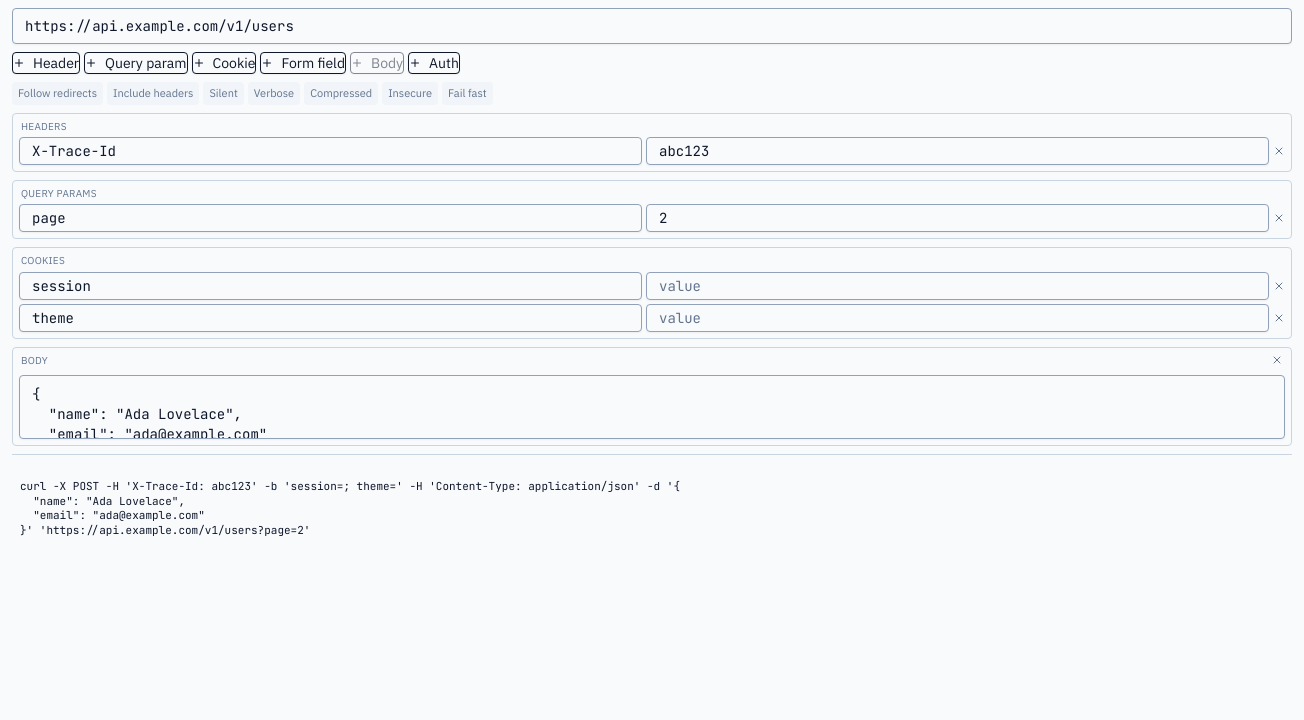
Test: CurlBuilderWidget › marks a form field as a file upload
Click the button "Form field" at (303, 63), box [260,52,346,74]
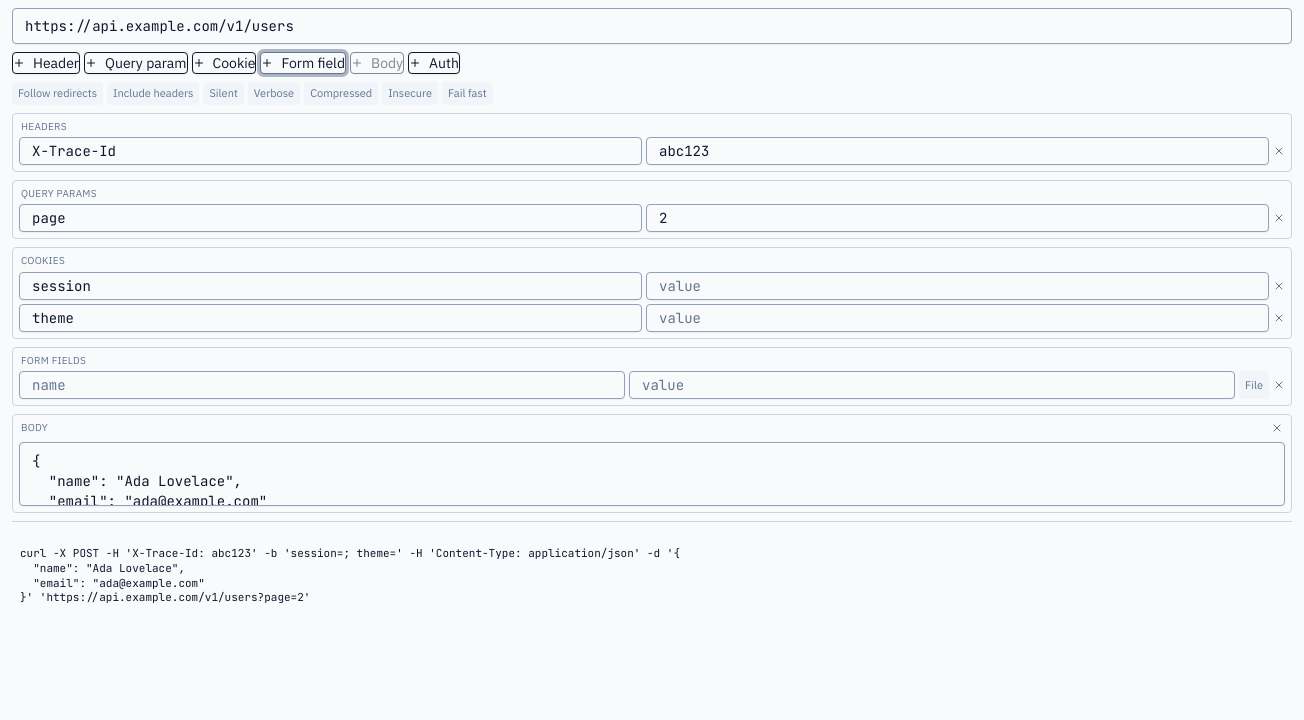
Type "avatar" into the field named "Form field 1 name" at (322, 385), box [19,371,625,399]
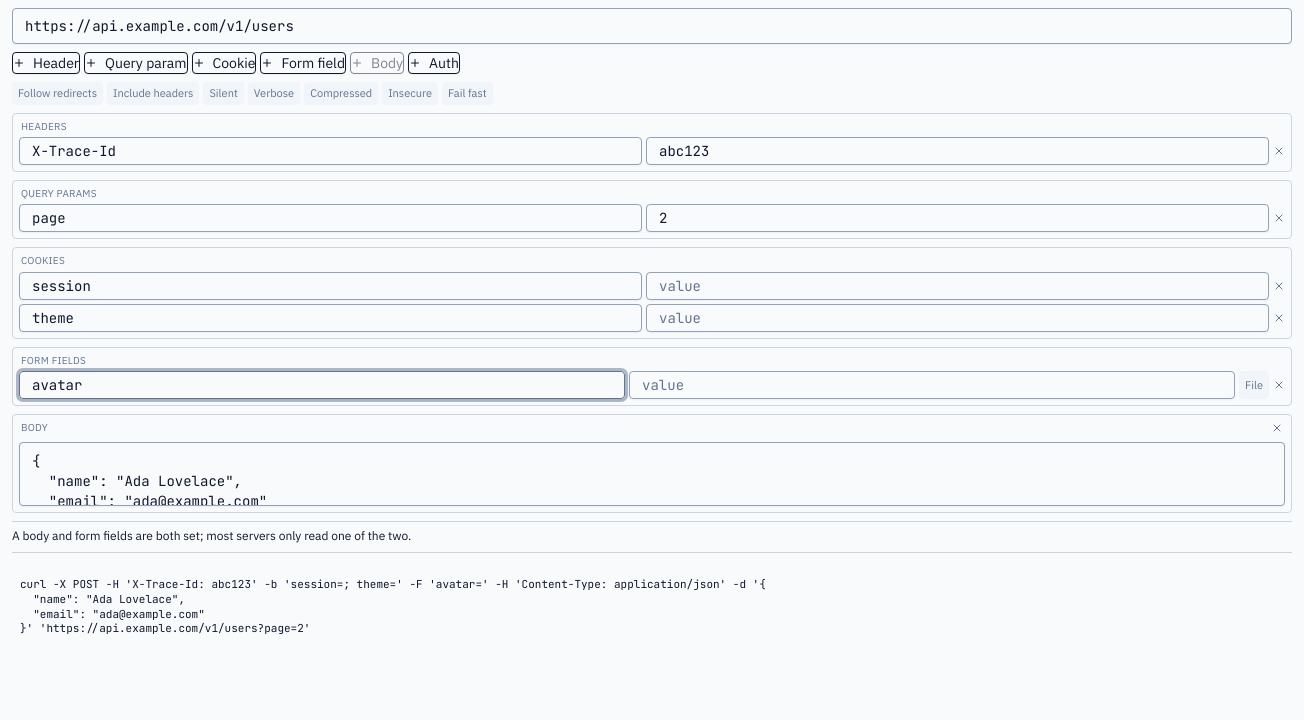
Type "me.png" into the field named "Form field 1 value" at (932, 385), box [629,371,1235,399]
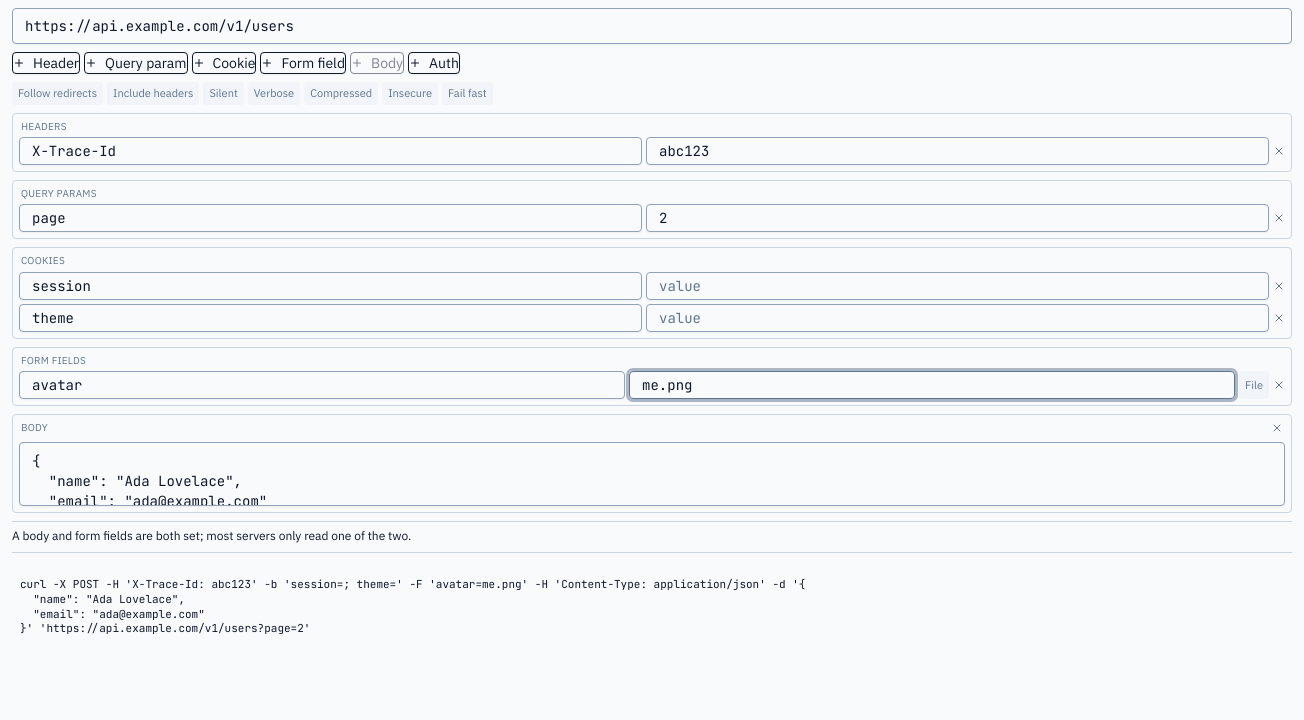
Click the button "File" at (1254, 385), box [1239,371,1269,399]
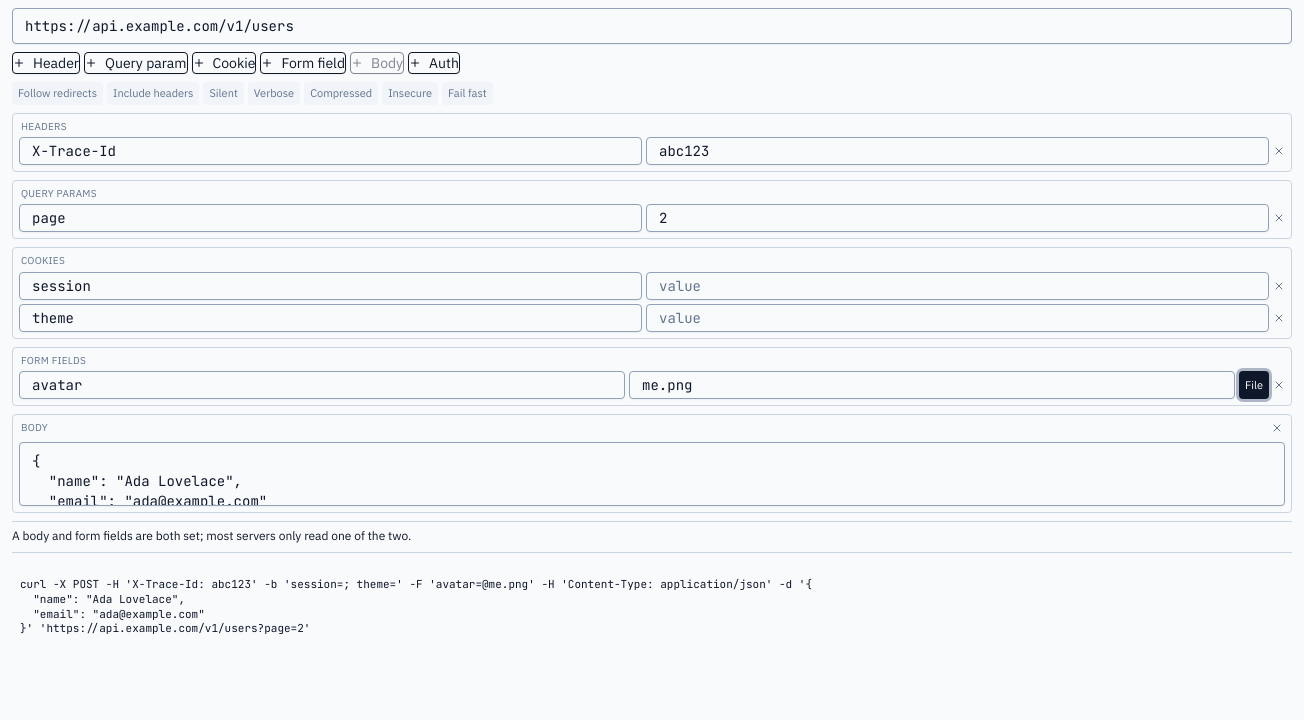
Check: the text "curl " shows "-F 'avatar=@me.png'", box [20,577,812,635]
